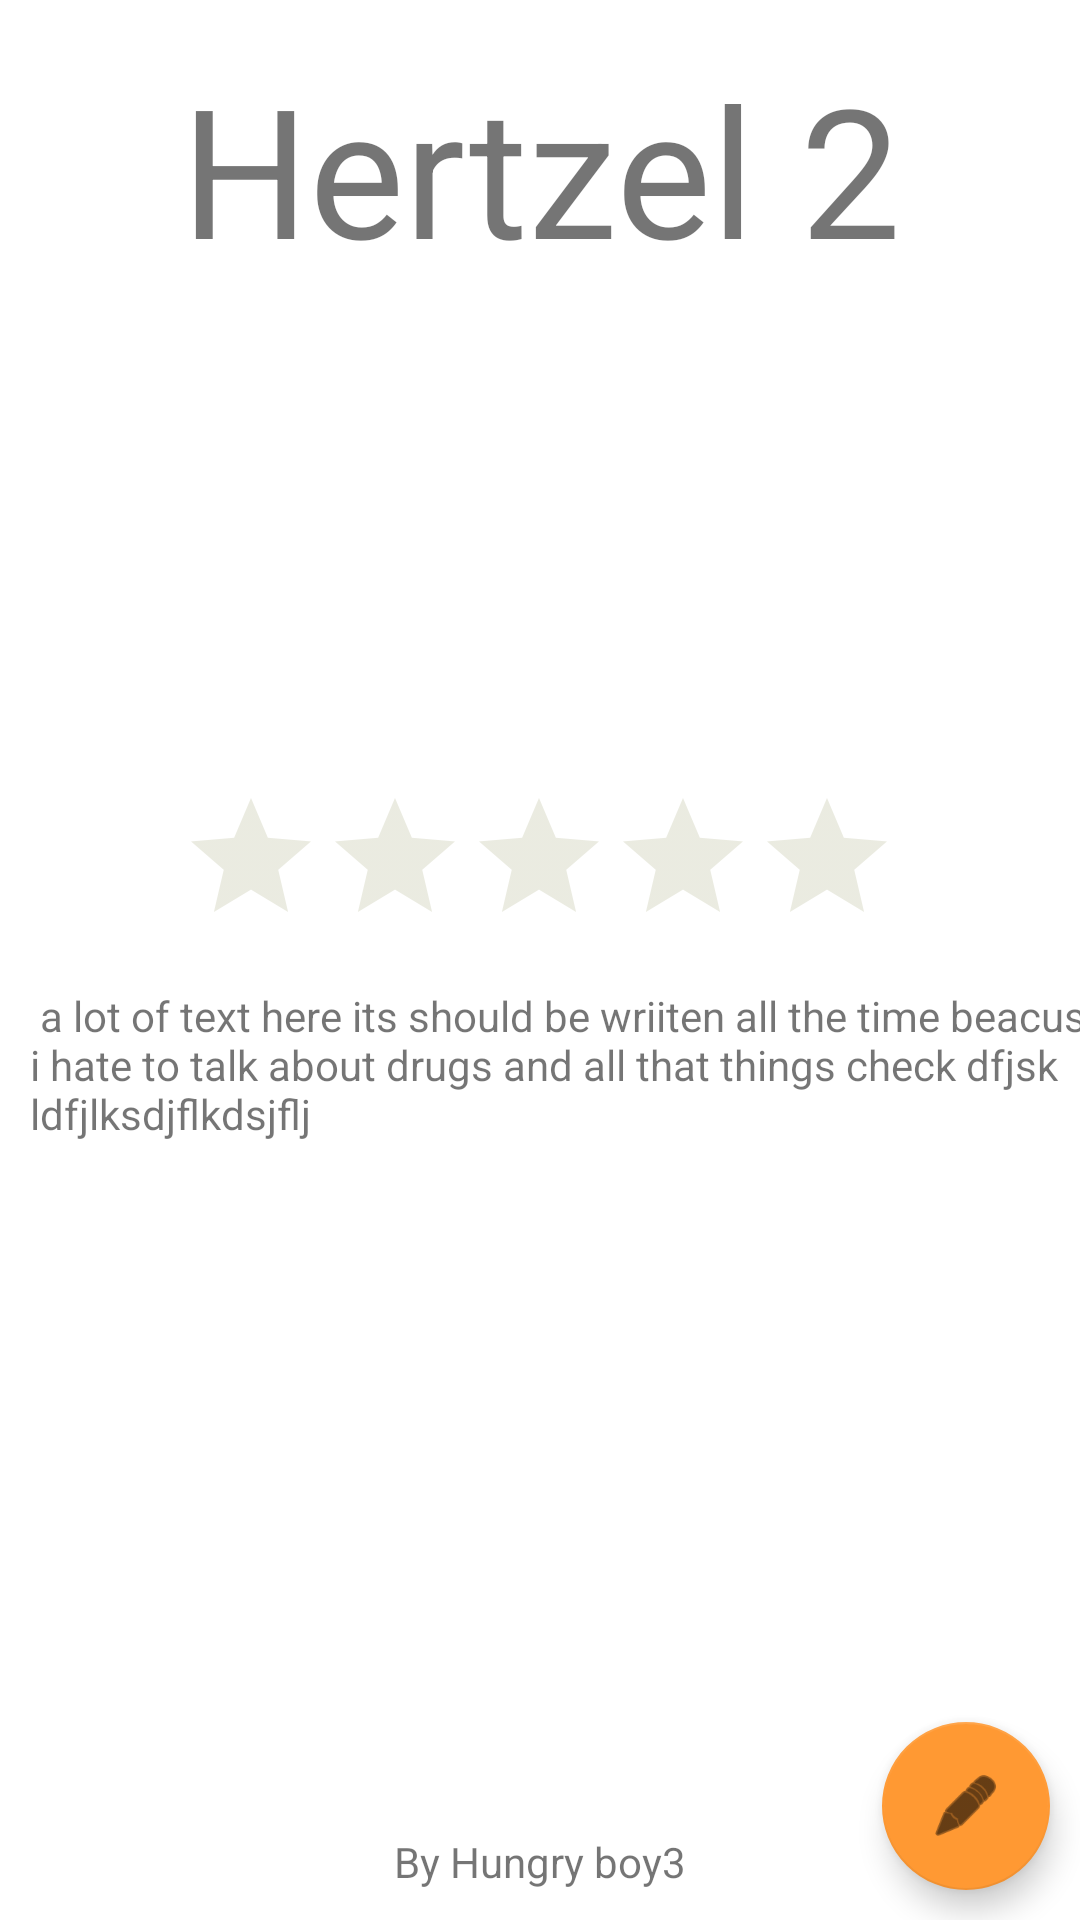

Screen size 1080x1920. Icon name, then its box in pixels as {"left": x1, "top": y1, "right": x2, "bottom": y2}:
edit: {"left": 882, "top": 1722, "right": 1050, "bottom": 1890}
